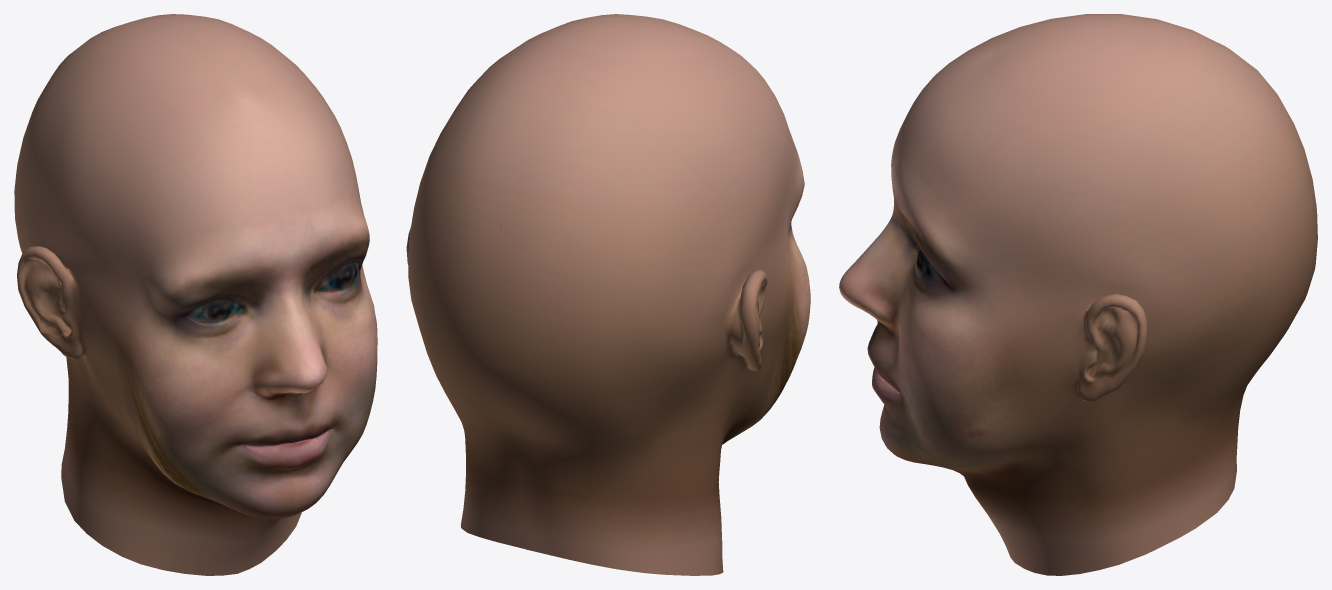
3 renders of one model, left to right at view 1: azimuth 30°, elevation 25°; view 2: azimuth 150°, elevation 25°; view 3: azimuth 270°, elevation 25°, orthographic. The views are drawn at different scales.
Parts seen in each view (by area): view 1: HeadHires; view 2: HeadHires; view 3: HeadHires.
Boxes of the visible parts, x1,y1,x2,y2 form: HeadHires: (14,14,377,575); HeadHires: (406,14,810,575); HeadHires: (839,14,1317,575).
Size of the model in its own units: 187 by 283 by 235.
Materials: 1 (1 with a texture image).
